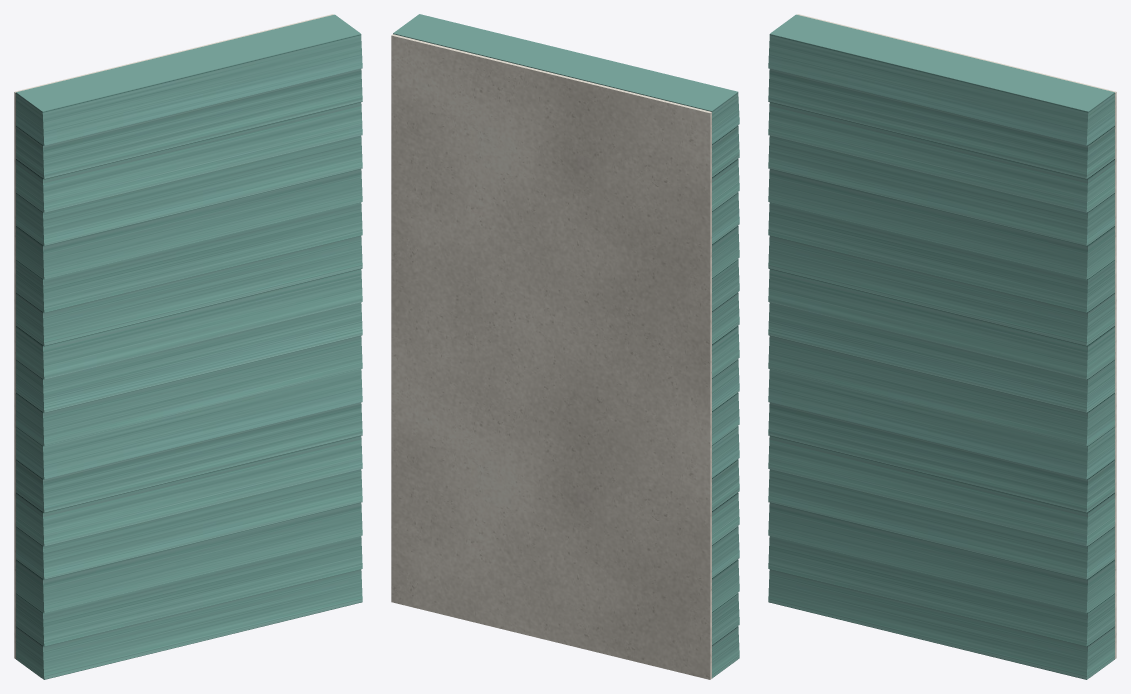
Rendered from f_u_plain_c.glb.
3 renders of one model, left to right at view 1: azimuth 30°, elevation 25°; view 2: azimuth 150°, elevation 25°; view 3: azimuth 330°, elevation 25°, orthographic.
Visible parts, largest first — view 1: f_u_plain_c_siding_c, f_u_plain_c_plaster; view 2: f_u_plain_c_plaster, f_u_plain_c_siding_c; view 3: f_u_plain_c_siding_c, f_u_plain_c_plaster.
Part boxes in pixels (x1,y1,x2,y2): f_u_plain_c_siding_c: [16, 14, 362, 679]; f_u_plain_c_plaster: [14, 14, 333, 658]; f_u_plain_c_plaster: [391, 34, 711, 679]; f_u_plain_c_siding_c: [393, 14, 739, 678]; f_u_plain_c_siding_c: [768, 14, 1114, 679]; f_u_plain_c_plaster: [797, 14, 1116, 658].
Bounding box in the file's own units: 2 × 3.4 × 0.324.
2 materials, 2 textured.
